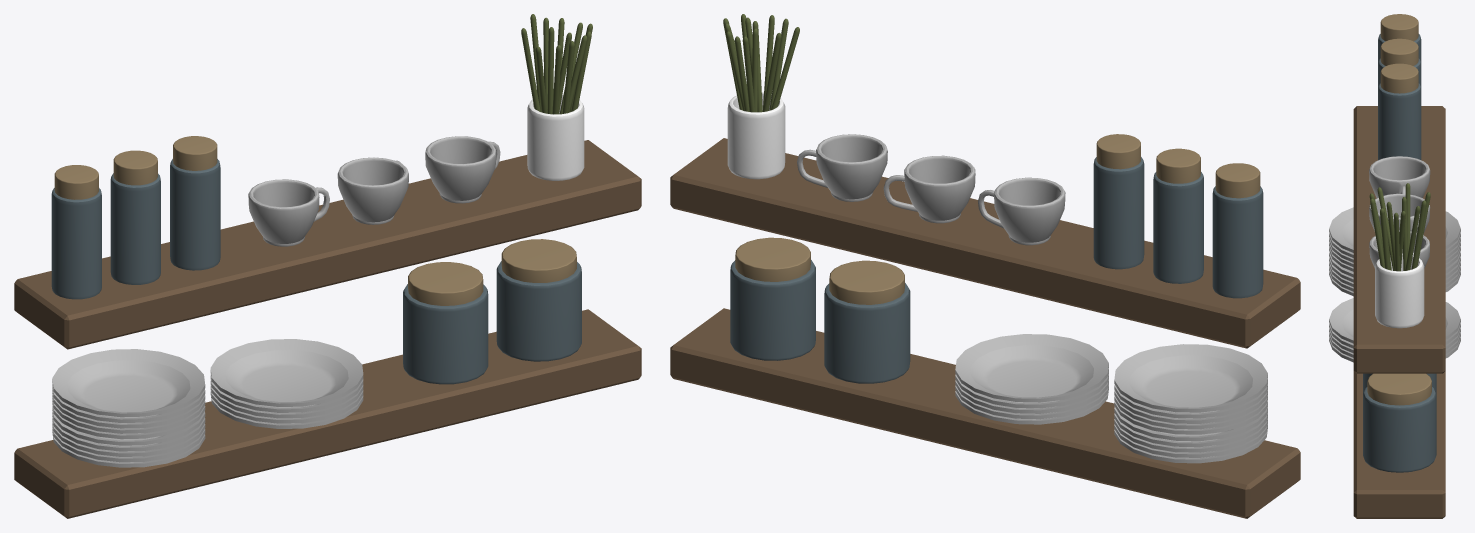
The model's file is shelves.gltf.
3 renders of one model, left to right at view 1: azimuth 30°, elevation 25°; view 2: azimuth 150°, elevation 25°; view 3: azimuth 270°, elevation 25°, orthographic. The views are drawn at different scales.
Visible parts, largest first — view 1: shelves; view 2: shelves; view 3: shelves.
Boxes of the visible parts, <box> form: shelves: <box>14,14,641,518</box>; shelves: <box>670,14,1300,518</box>; shelves: <box>1329,14,1460,518</box>.
Size of the model in its own units: 6.26 by 3.63 by 1.44.
